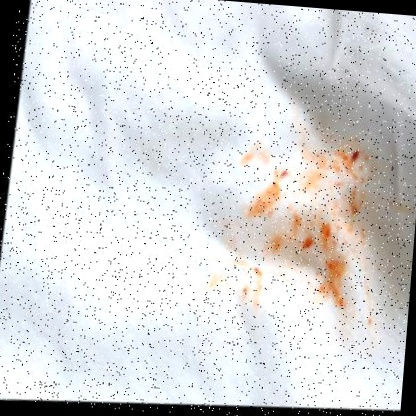kimchi: (198, 109, 416, 324), (308, 246, 350, 310), (317, 210, 340, 247), (346, 138, 373, 168), (297, 224, 317, 259), (247, 262, 262, 280), (276, 168, 291, 180)
